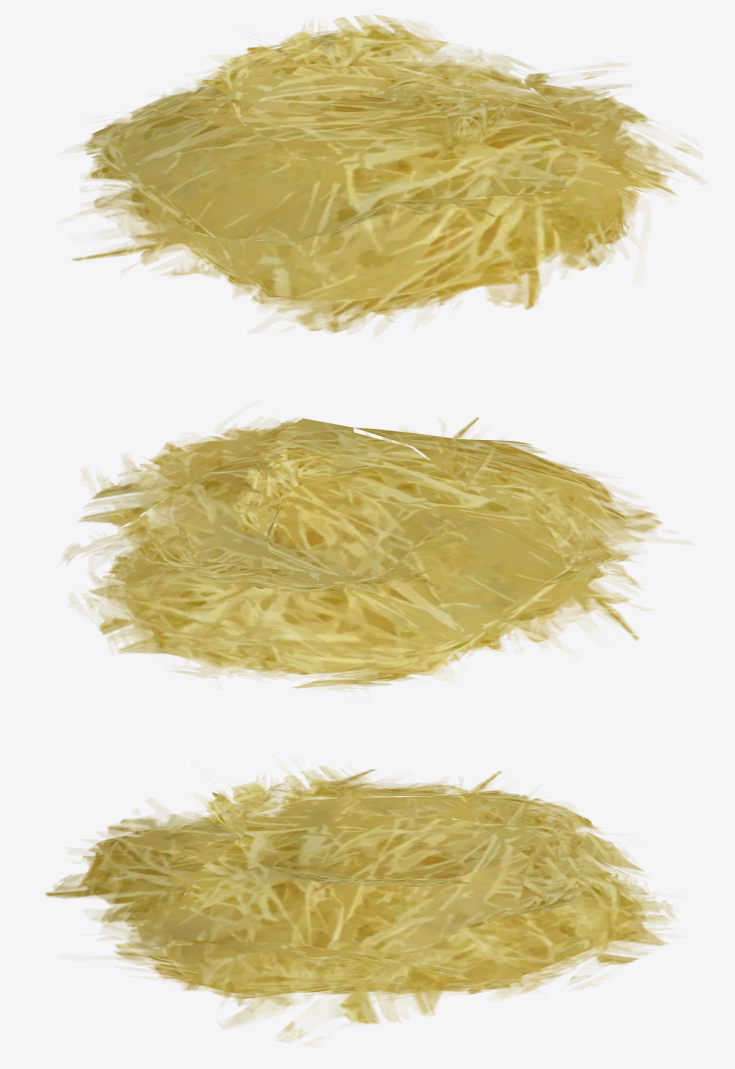
3 views of the same model, one above another, from view 1: azimuth 30°, elevation 25°; view 2: azimuth 150°, elevation 25°; view 3: azimuth 270°, elevation 25° (orthographic). The views are drawn at different scales.
Visible parts, largest first — view 1: body0_model0_lod0_mesh1, body0_model0_lod0_mesh0; view 2: body0_model0_lod0_mesh1, body0_model0_lod0_mesh0; view 3: body0_model0_lod0_mesh1, body0_model0_lod0_mesh0.
Boxes of the visible parts, left/top/right/bottom form: body0_model0_lod0_mesh1: left=71, top=14, right=706, bottom=333; body0_model0_lod0_mesh0: left=185, top=93, right=592, bottom=296; body0_model0_lod0_mesh1: left=63, top=417, right=662, bottom=691; body0_model0_lod0_mesh0: left=124, top=472, right=608, bottom=665; body0_model0_lod0_mesh1: left=45, top=765, right=675, bottom=1045; body0_model0_lod0_mesh0: left=164, top=838, right=623, bottom=985.
Bounding box in the file's own units: 136 × 18.24 × 141.
2 materials, 2 textured.
